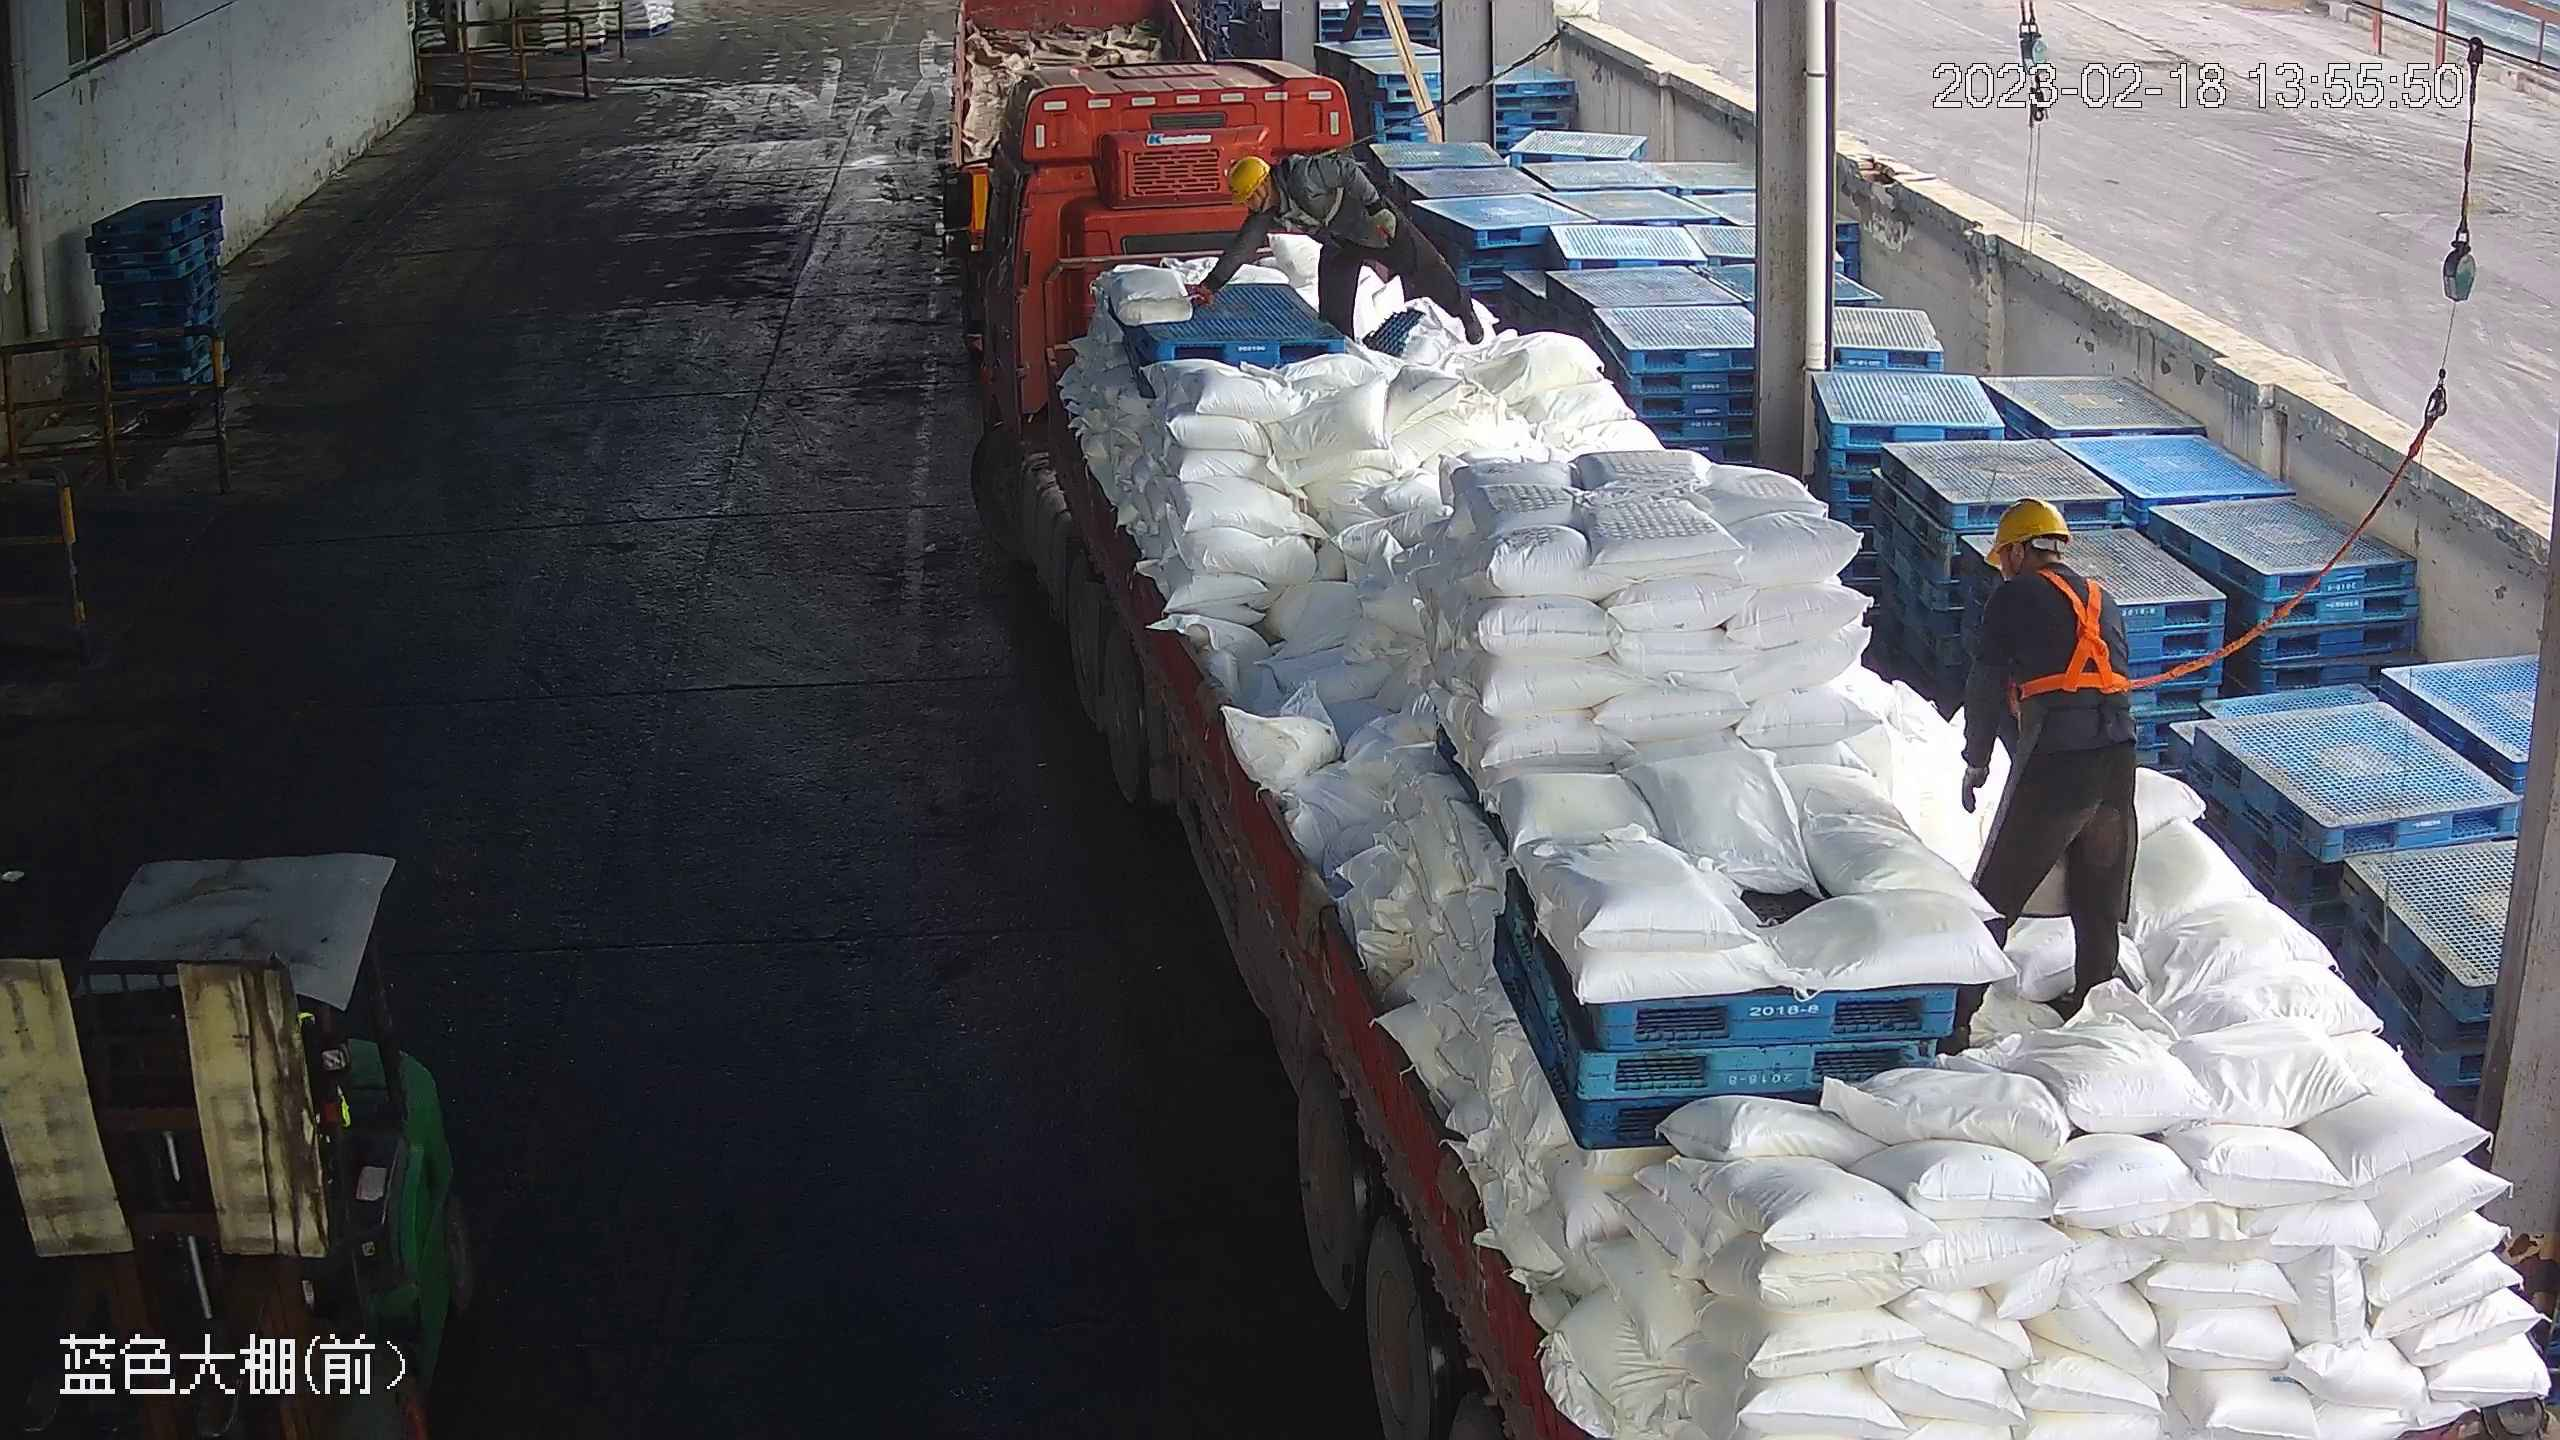belt: (2002, 560, 2146, 701), (1291, 156, 1365, 233)
head: (1980, 496, 2134, 627), (1223, 151, 1332, 228)
helmet: (1984, 496, 2073, 568), (1224, 151, 1271, 206)
people: (1949, 493, 2141, 1044), (1180, 145, 1442, 348)
truck: (964, 58, 2559, 1440)
